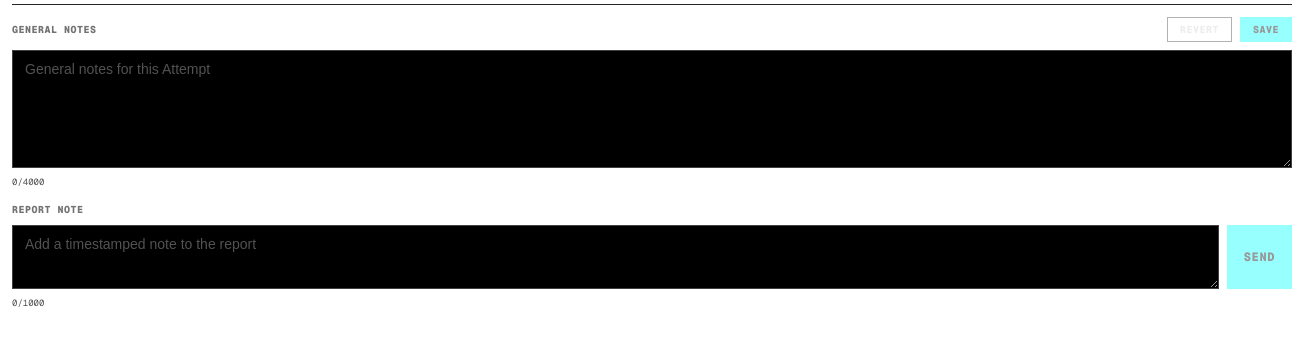
Test case: AttemptNotesPanel › retains a failed Report Note and disables blank sends
Expected: the button with aria-label "Send Report Note" is disabled, [1227, 224, 1292, 288]
Type "Keep this draft" into the text box labelled "Report Note".
click(615, 256); type("Keep this draft")  # box [12, 224, 1219, 288]
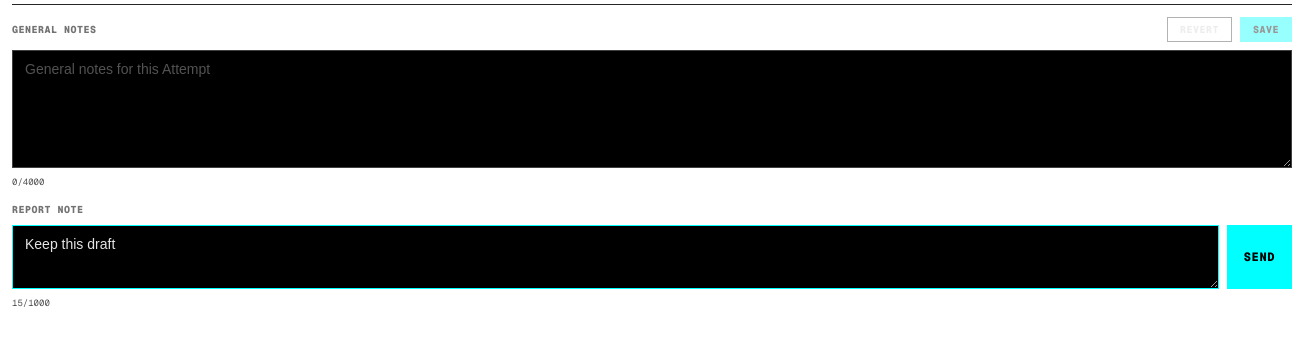
Click the button with aria-label "Send Report Note".
click(1259, 256)  # box [1227, 224, 1292, 288]
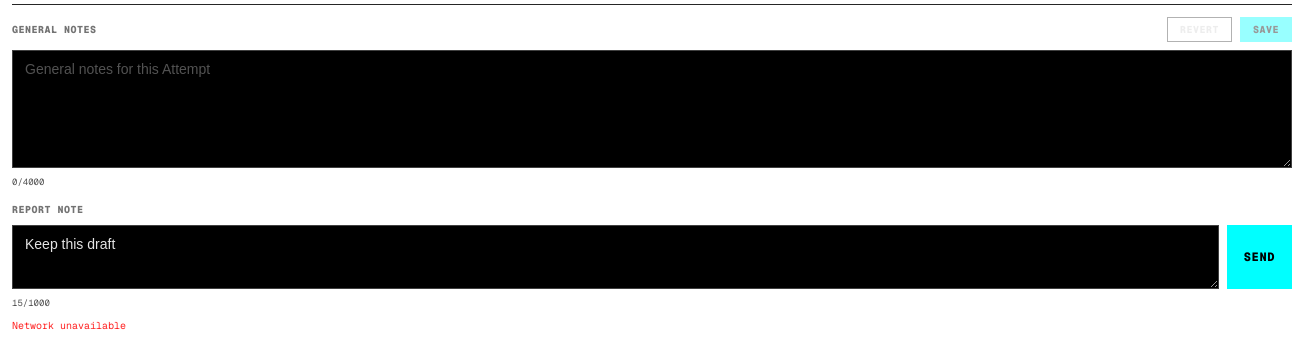
Result: the message reads "Network unavailable" at [12, 319, 126, 332]
